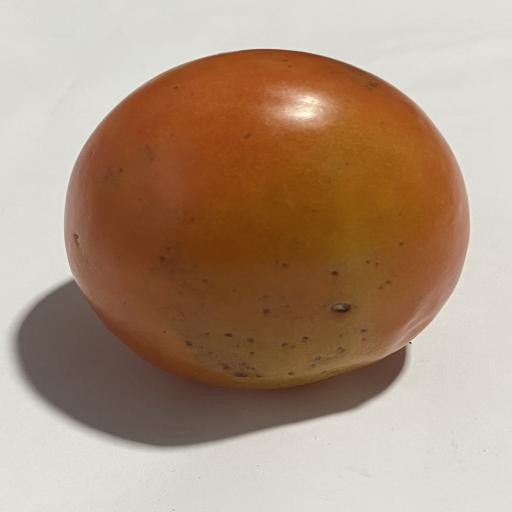unripe: (65, 50, 468, 388)
